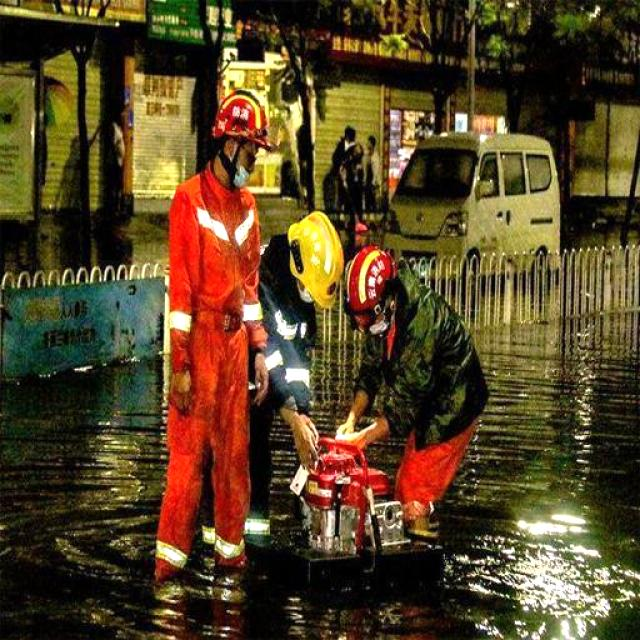civilian: (355, 133, 392, 223), (334, 120, 364, 214)
rescuer: (142, 48, 277, 597), (350, 234, 479, 558), (256, 182, 343, 554)
